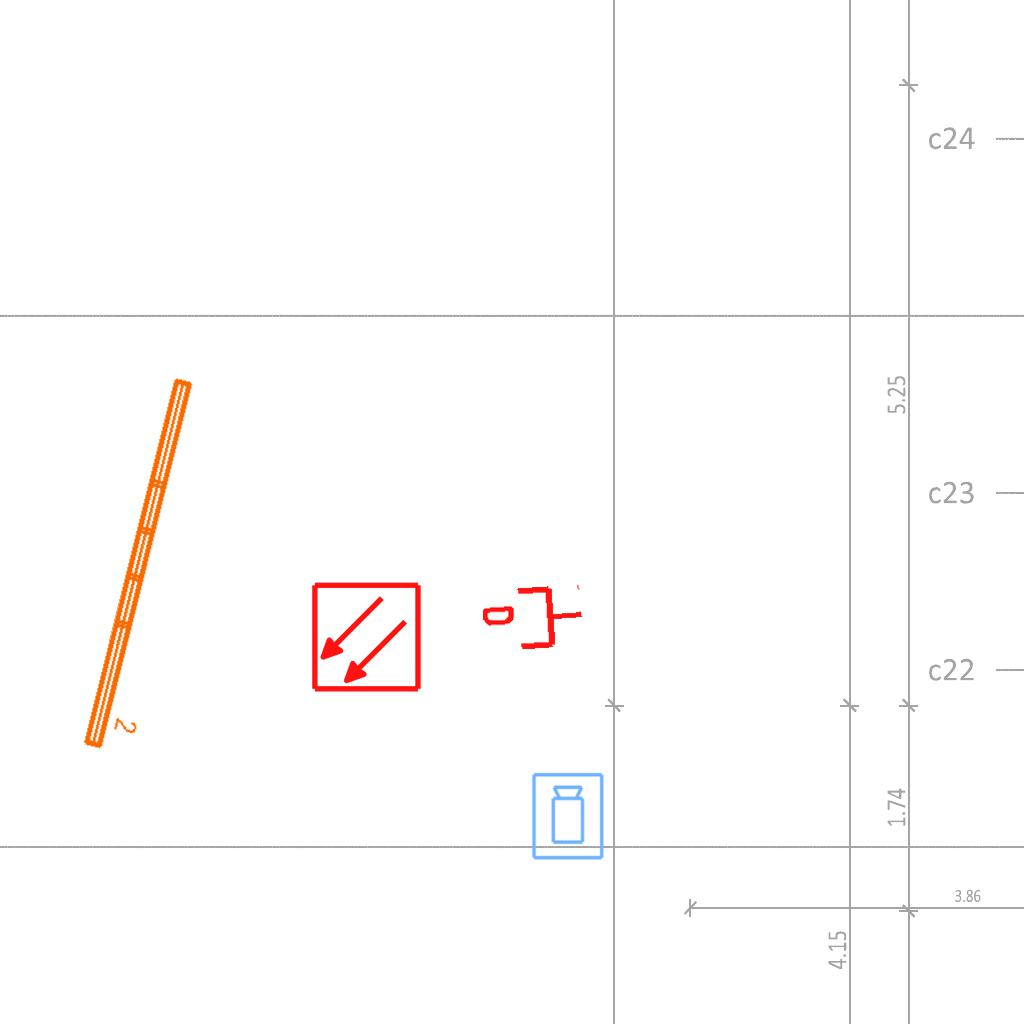Ambulanz_Pendelleuchte_LED: (76, 371, 225, 761)
Datenanschluss_einfach: (481, 580, 586, 656)
KFO_Kamera_mit_Festobjektiv: (530, 771, 607, 862)
RMO_Rauchmelder_optischer: (310, 581, 423, 694)
